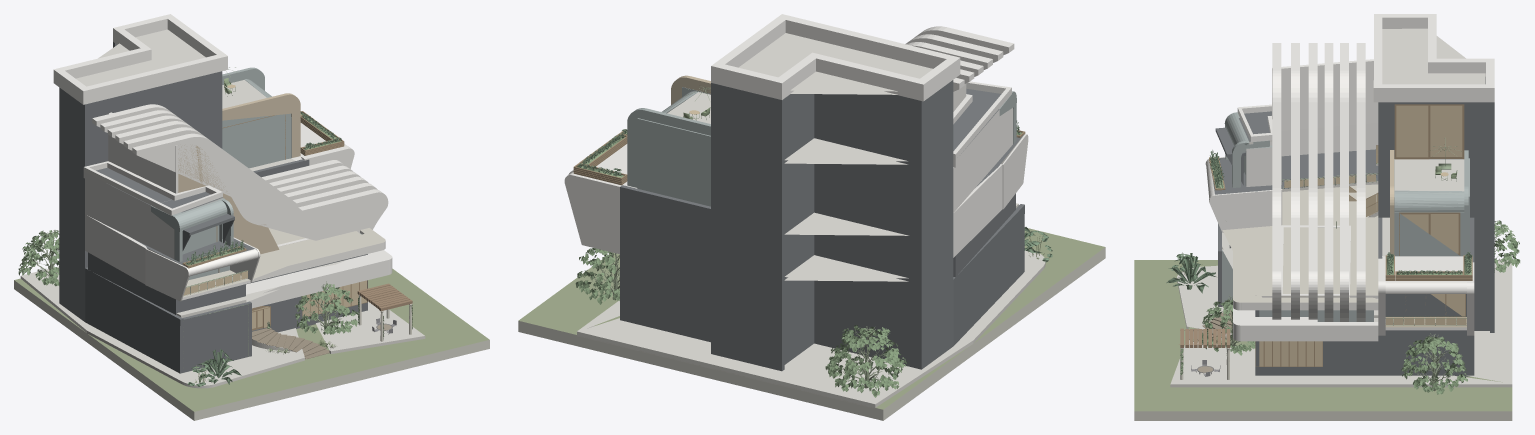
File: sunter-villa.glb
3 views of the same model, side by side, from view 1: azimuth 30°, elevation 25°; view 2: azimuth 150°, elevation 25°; view 3: azimuth 270°, elevation 25° (orthographic). The views are drawn at different scales.
Visible parts, largest first — view 1: _auto_1, _auto_5, _auto_6, _auto_23, _auto_3, _auto_22, _auto_7, _auto_2, _auto_25, _auto_10, _auto_30, _auto_9 (+3 smaller); view 2: _auto_5, _auto_1, _auto_6, _auto_3, _auto_22, _auto_23, _auto_25, _auto_9, _auto_30, _auto_24, _auto_7; view 3: _auto_1, _auto_5, _auto_6, _auto_23, _auto_2, _auto_10, _auto_3, _auto_25, _auto_22, _auto_9, _auto_30, _auto_33 (+5 smaller).
Part boxes in pixels (box(x1,y1,x2,y2)): _auto_1: box(53, 14, 392, 308); _auto_5: box(59, 42, 367, 373); _auto_6: box(20, 29, 425, 388); _auto_23: box(14, 268, 489, 411); _auto_3: box(151, 67, 361, 302); _auto_22: box(14, 280, 489, 420); _auto_7: box(178, 93, 300, 254); _auto_2: box(183, 228, 385, 297); _auto_25: box(18, 230, 412, 339); _auto_10: box(183, 84, 366, 328); _auto_30: box(186, 111, 341, 386); _auto_9: box(182, 111, 367, 330); _auto_5: box(620, 80, 1024, 371); _auto_1: box(564, 14, 1028, 257); _auto_6: box(577, 33, 1045, 408); _auto_3: box(627, 87, 1016, 206); _auto_22: box(518, 247, 1105, 420); _auto_23: box(518, 228, 1105, 409); _auto_25: box(575, 248, 906, 397); _auto_9: box(573, 130, 1025, 185); _auto_30: box(578, 120, 1052, 262); _auto_24: box(591, 252, 886, 388); _auto_7: box(671, 75, 710, 104); _auto_1: box(1205, 14, 1494, 341); _auto_5: box(1212, 77, 1494, 376); _auto_6: box(1170, 28, 1512, 387); _auto_23: box(1134, 260, 1512, 411); _auto_2: box(1222, 184, 1378, 302); _auto_10: box(1259, 105, 1466, 366); _auto_3: box(1222, 112, 1469, 321); _auto_25: box(1180, 220, 1520, 394); _auto_22: box(1134, 411, 1512, 420); _auto_9: box(1209, 104, 1472, 366); _auto_30: box(1166, 150, 1472, 293); _auto_33: box(1179, 328, 1230, 347).
Bounding box in the file's own units: 11.5 × 9 × 12.24.
